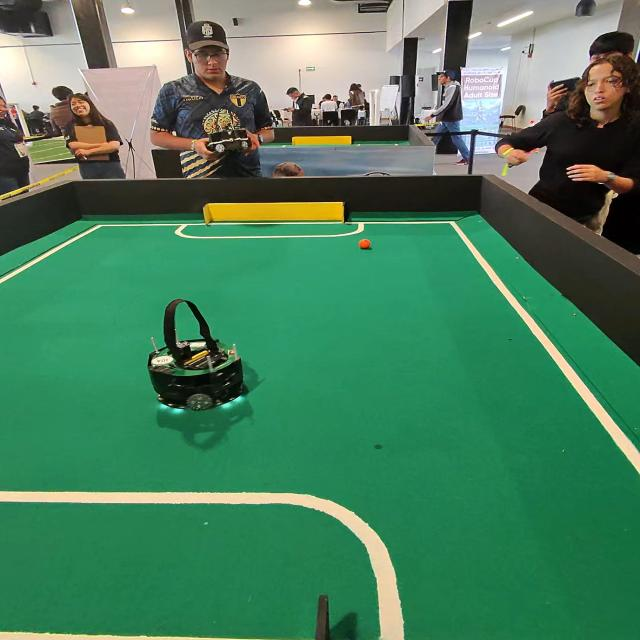Robot: (120, 272, 274, 428)
pelota: (346, 233, 381, 258)
